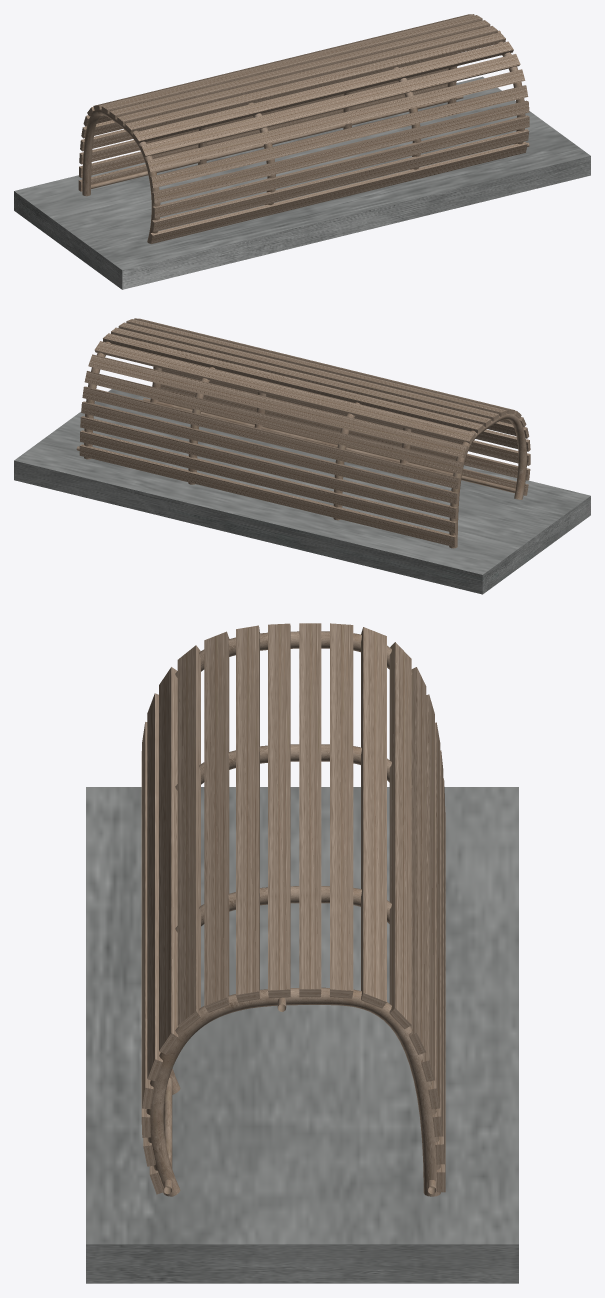
The model's file is long_chair_garden_outdoor_1.glb.
The picture shows the model from 3 angles, top to bottom: view 1: azimuth 30°, elevation 25°; view 2: azimuth 150°, elevation 25°; view 3: azimuth 270°, elevation 25°; orthographic projection. The views are drawn at different scales.
Visible parts, largest first — view 1: NurbsPath.001; view 2: NurbsPath.001; view 3: NurbsPath.001.
Part boxes in pixels (x1,y1,x2,y2): NurbsPath.001: (14,14,590,289); NurbsPath.001: (14,318,590,594); NurbsPath.001: (86,623,518,1283).
Size of the model in its own units: 2.5 by 0.6321 by 1.
Materials: 3 (3 with a texture image).
